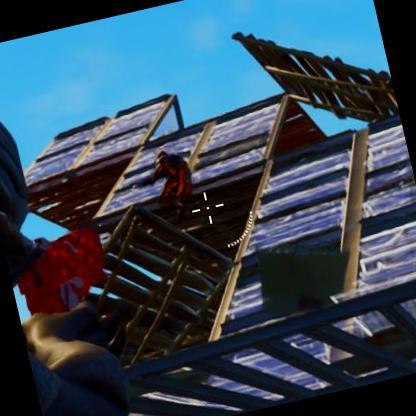person: (149, 147, 202, 223)
